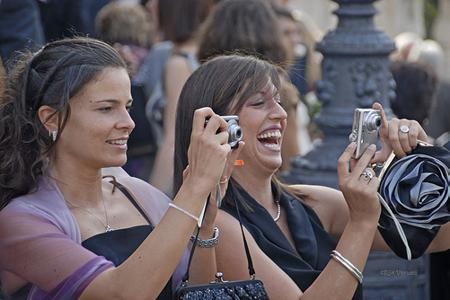person: (3, 39, 247, 299)
